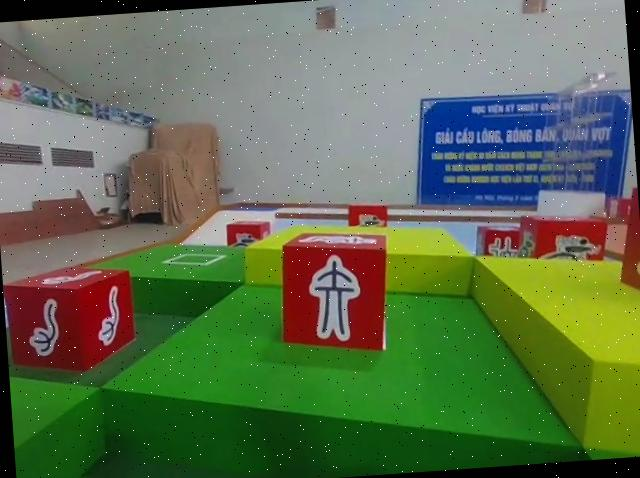R1: (517, 206, 613, 278), (220, 215, 274, 256), (343, 198, 393, 239)
R2 Fake: (271, 223, 397, 362)
R2 Real: (1, 257, 143, 380), (472, 218, 529, 271)
